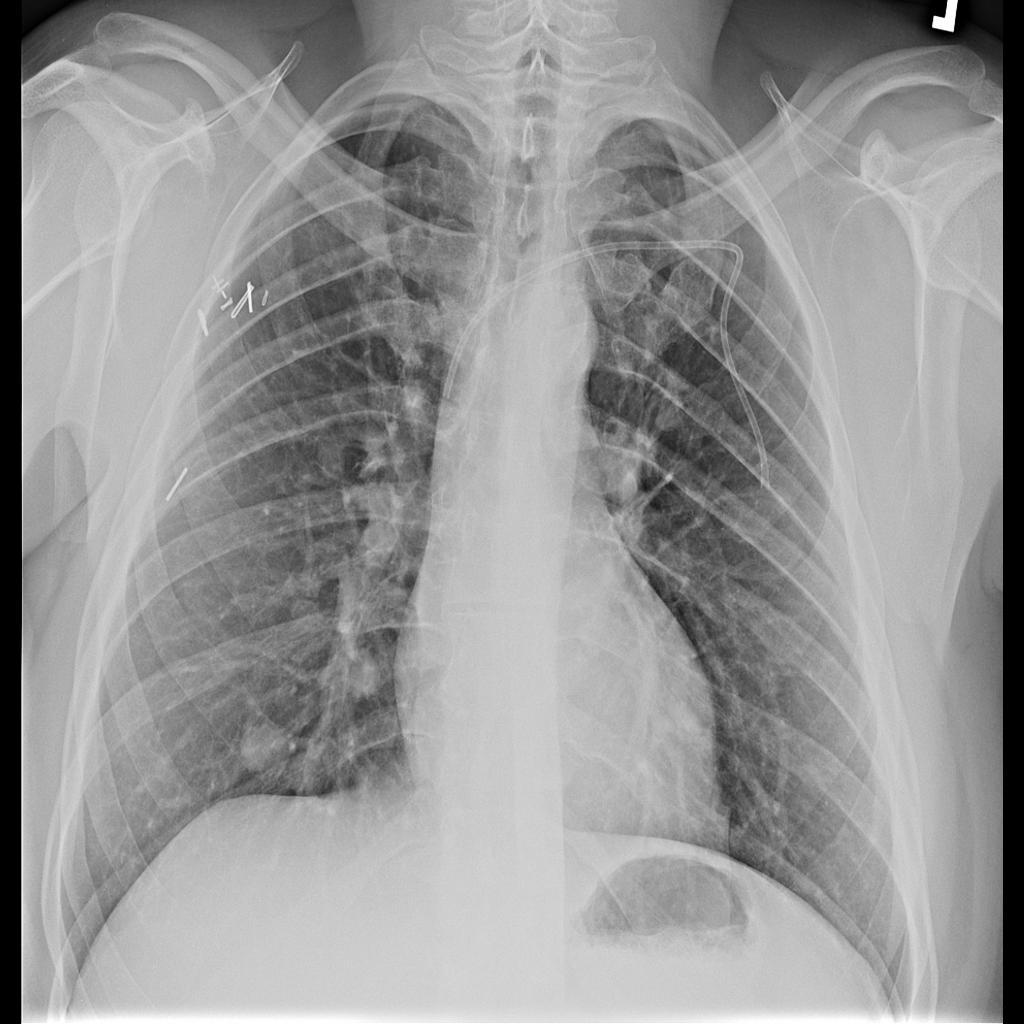Nodule: (238, 718, 302, 778), (327, 643, 383, 700), (288, 594, 326, 639)
